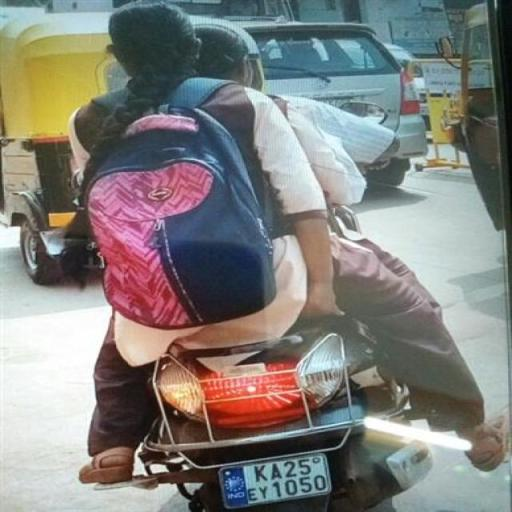tripple riding: (24, 1, 412, 340)
